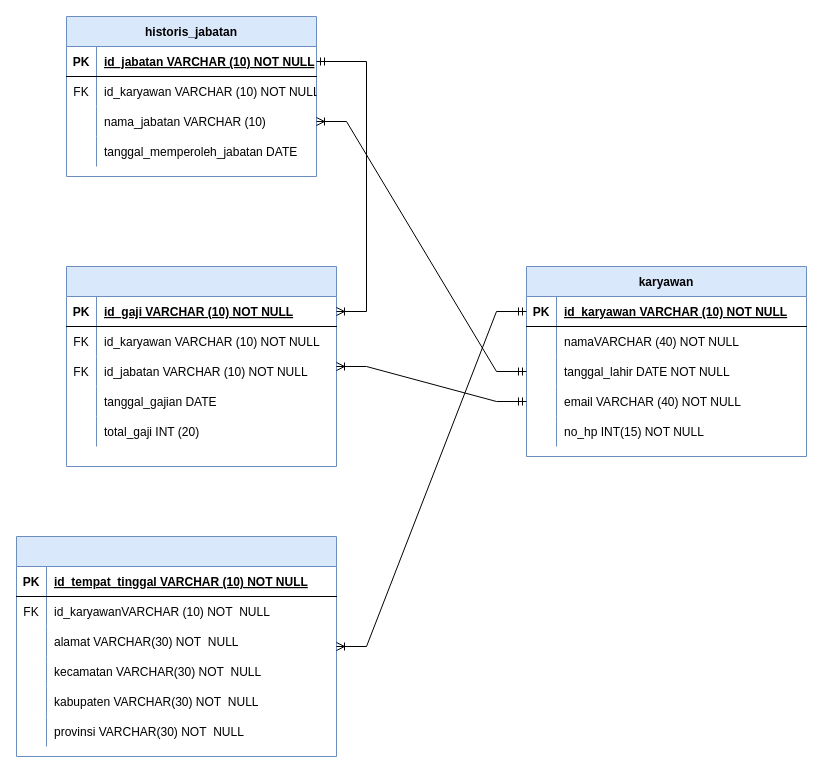
Image size: 823x773. Some labels were removed from this diagram. The shapes that lost their labels are listed below. From the top down, each one's box as (x1, y1, x2, y2) in pixels, then its label:
(66, 266, 336, 466): historis_gaji
(16, 536, 336, 756): historis_tempat_tinggal
